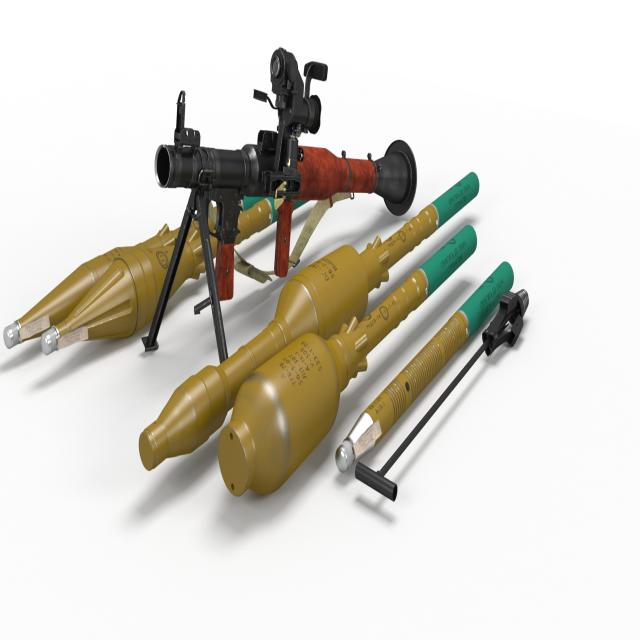Gun: (127, 30, 440, 361)
